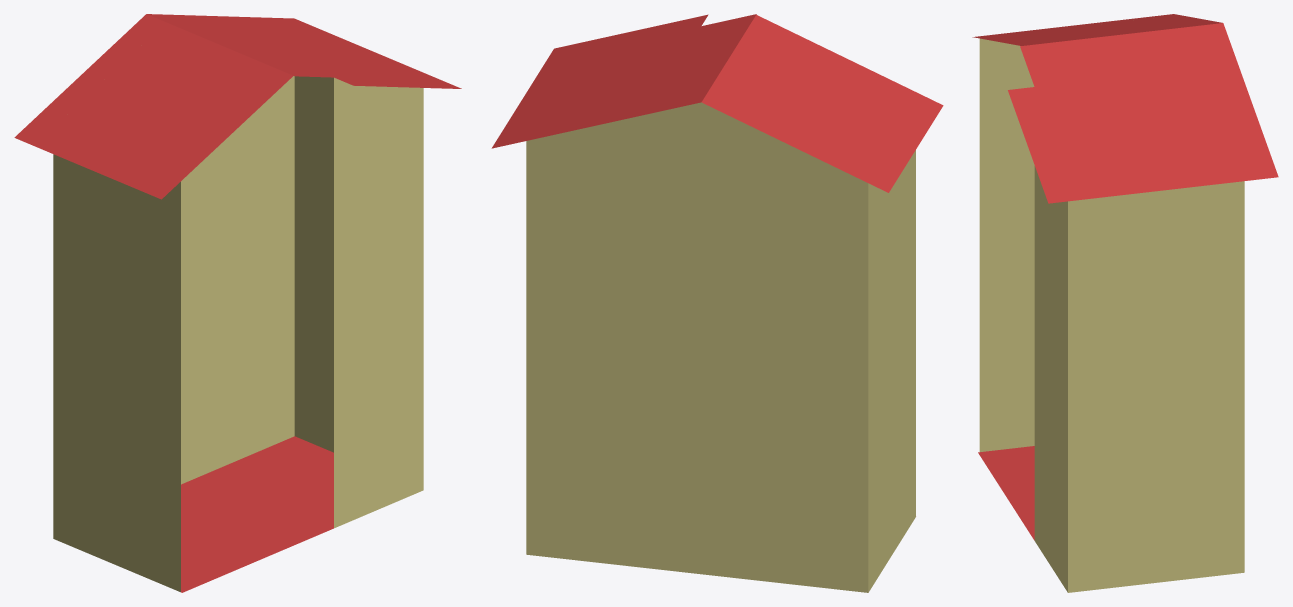
3 views of the same model, side by side, from view 1: azimuth 30°, elevation 25°; view 2: azimuth 150°, elevation 25°; view 3: azimuth 270°, elevation 25° (orthographic). The views are drawn at different scales.
Bounding box in the file's own units: 8.06 × 5.5 × 9.35.
